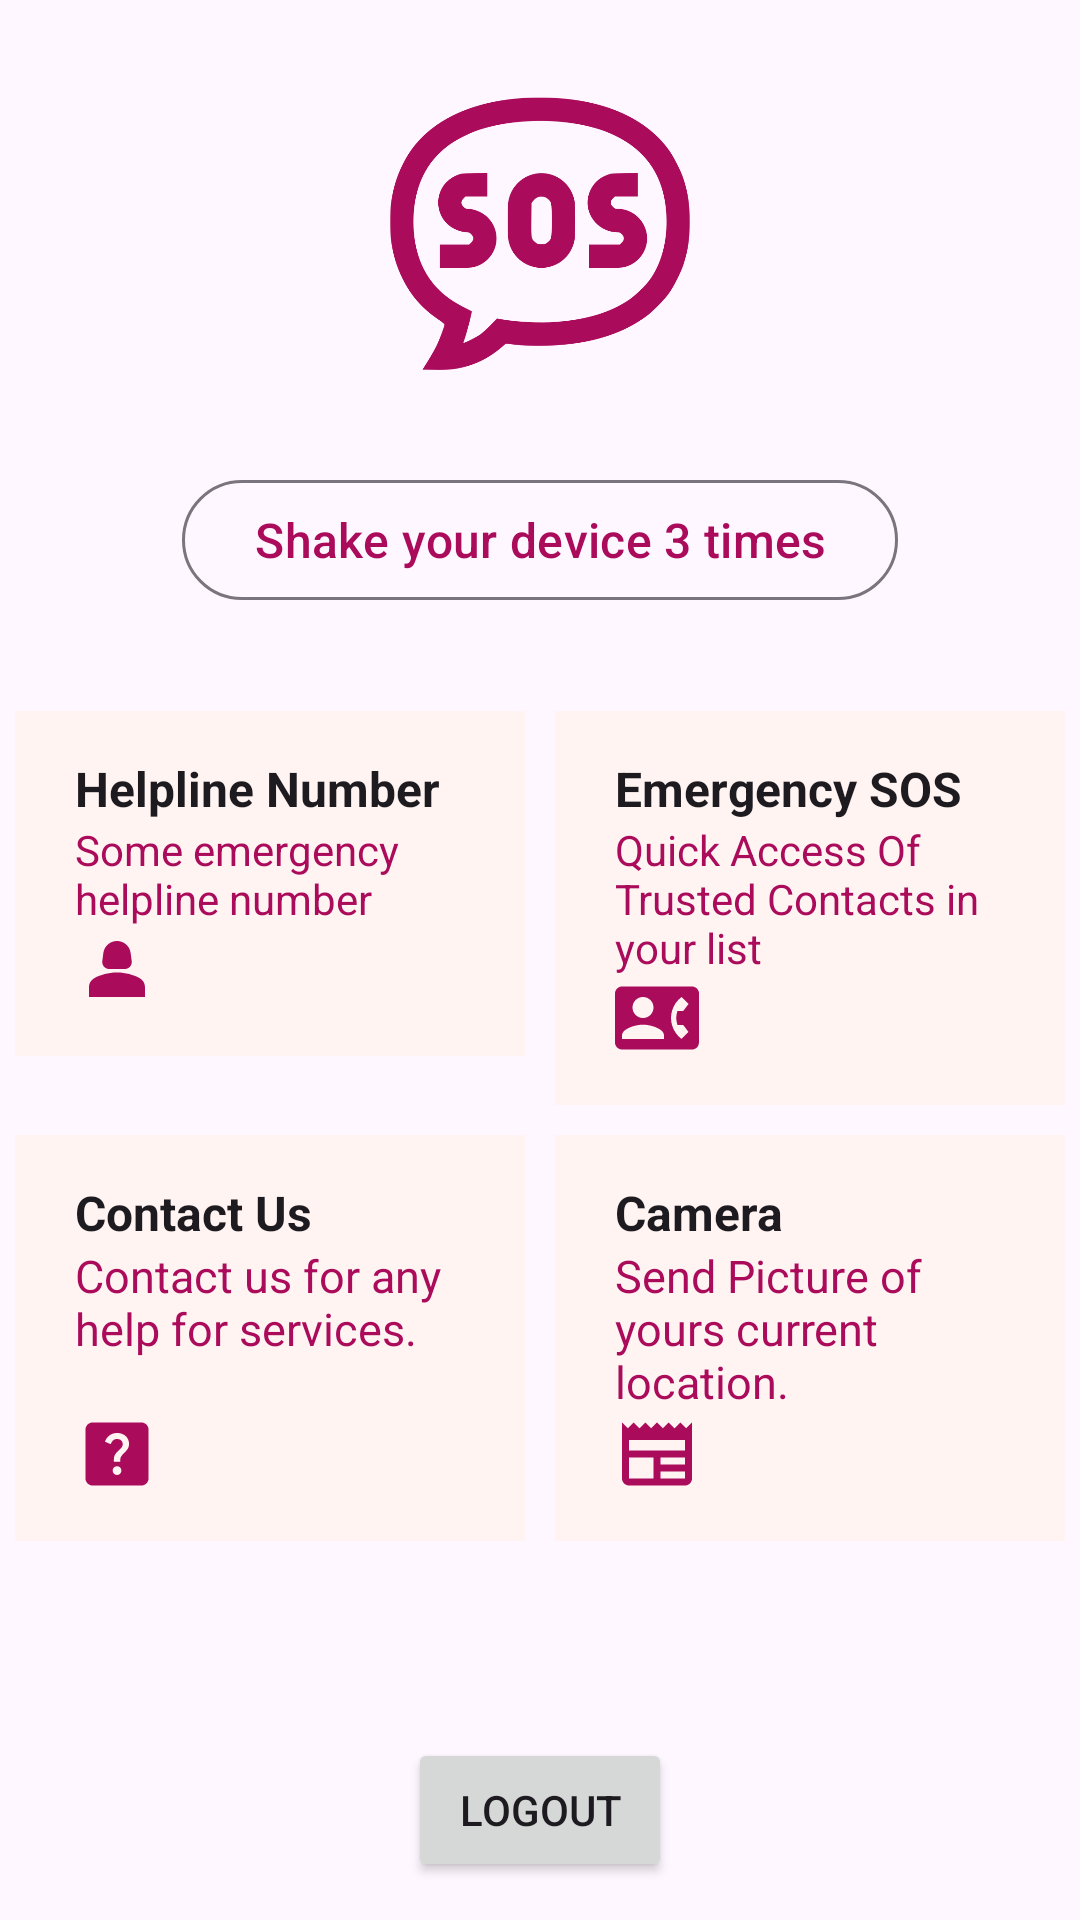

Screen size 1080px×1920px. Icon name, then its box in pixels as (x1, y1, x2, y2):
contact phone: (615, 986, 699, 1050)
help center: (85, 1422, 149, 1486)
newspaper: (622, 1422, 692, 1486)
person: (89, 941, 145, 997)
